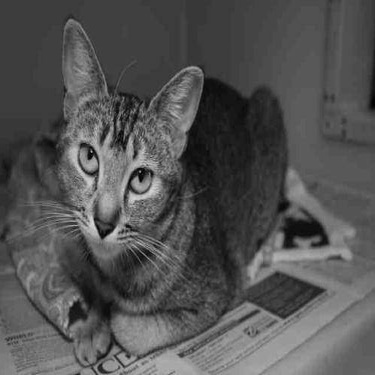cat: (6, 18, 289, 365)
